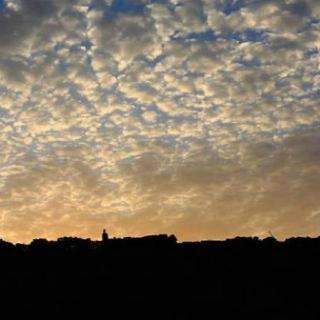Altocumulus: (3, 0, 320, 231)
